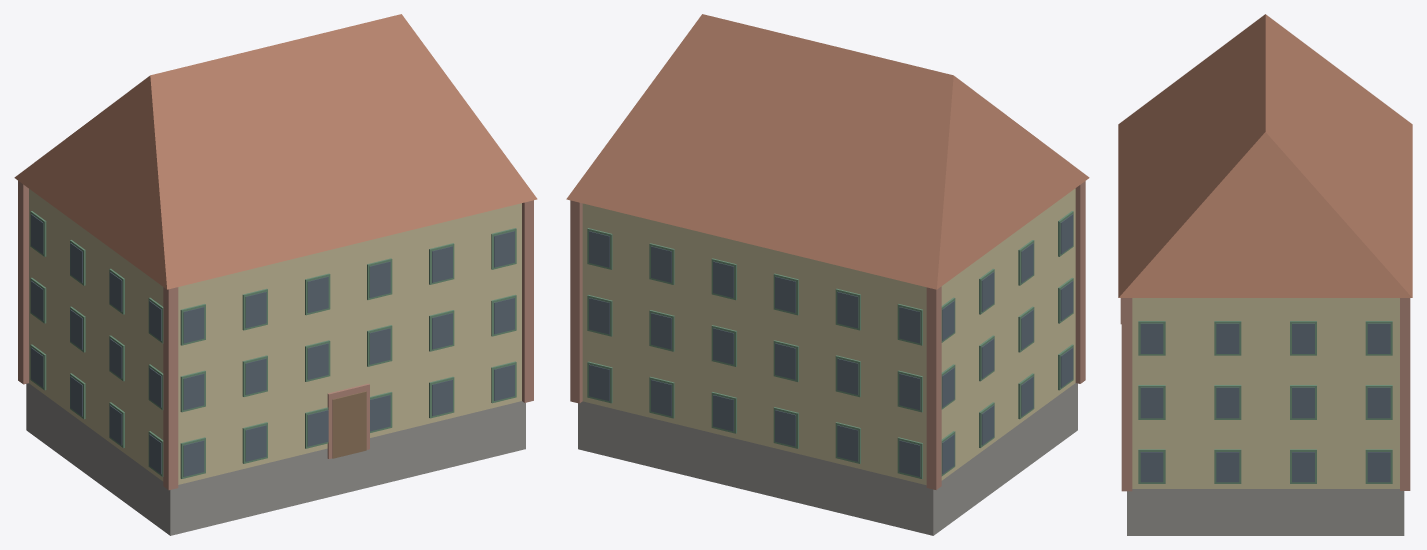
File: landmark-kandern-forsthaus.glb
The picture shows the model from 3 angles, left to right: view 1: azimuth 30°, elevation 25°; view 2: azimuth 150°, elevation 25°; view 3: azimuth 270°, elevation 25°; orthographic projection. The views are drawn at different scales.
Parts seen in each view (by area): view 1: building; view 2: building; view 3: building.
Boxes of the visible parts, x1,y1,x2,y2 form: building: [14, 14, 537, 535]; building: [566, 14, 1089, 535]; building: [1118, 14, 1412, 535].
Bounding box in the file's own units: 19.76 × 20.13 × 14.13.
